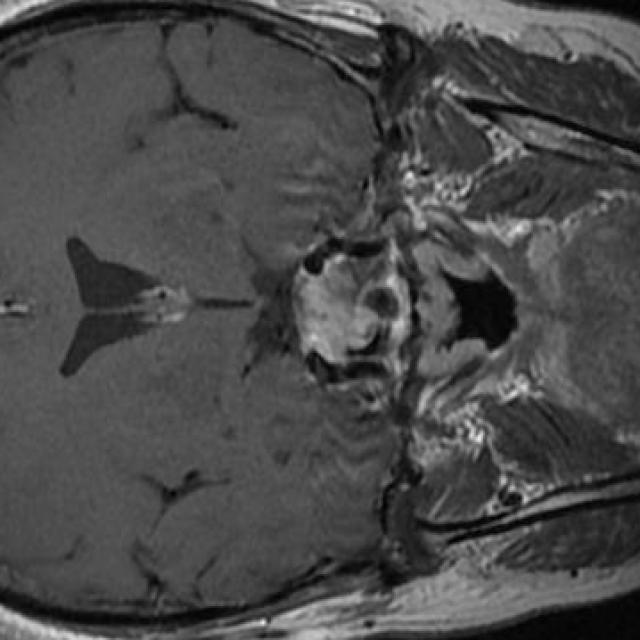pituitary: (292, 251, 399, 365)
